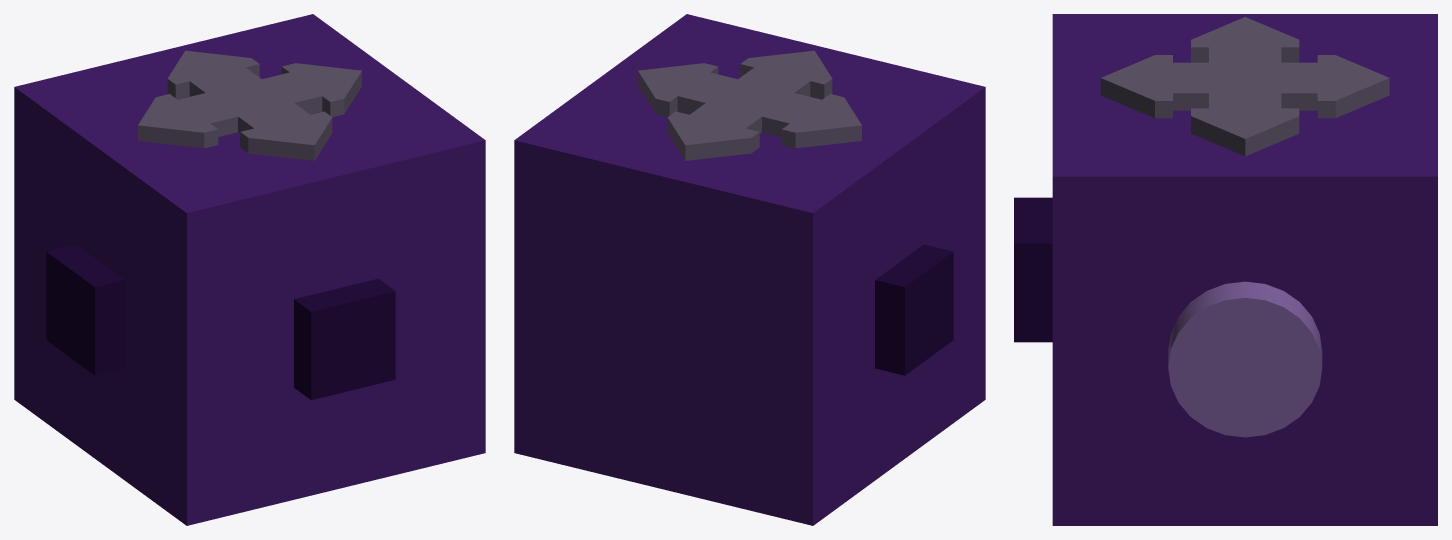
Rendered from Move_Figure.dae.
The picture shows the model from 3 angles, left to right: view 1: azimuth 30°, elevation 25°; view 2: azimuth 150°, elevation 25°; view 3: azimuth 270°, elevation 25°; orthographic projection. The views are drawn at different scales.
Visible parts, largest first — view 1: SketchUp (×4); view 2: SketchUp (×3); view 3: SketchUp (×4).
Boxes of the visible parts, x1,y1,x2,y2 form: SketchUp (×4): [14, 14, 485, 525]; SketchUp (×3): [514, 14, 985, 525]; SketchUp (×4): [1014, 14, 1437, 525].
Size of the model in its own units: 47.24 by 43.31 by 41.34.
